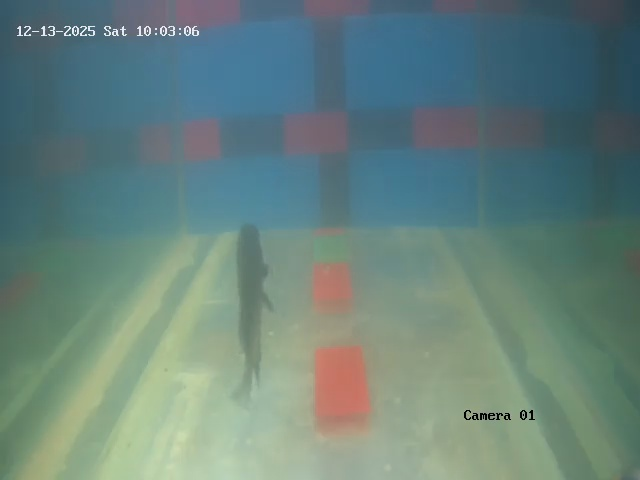fish: (227, 221, 277, 347)
